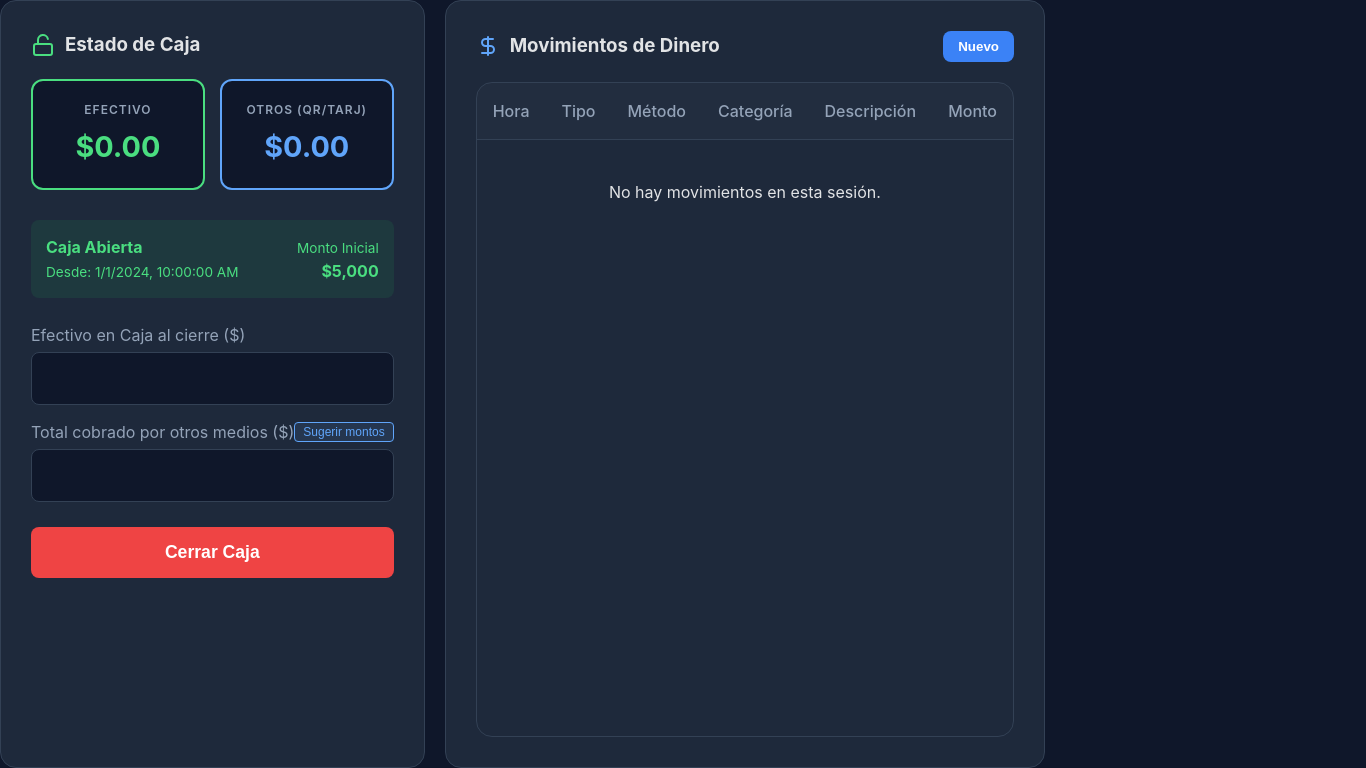
Scenario: Caja – caja abierta (session provided) › fills suggested amounts when "Sugerir montos" is clicked
This screenshot has width=1366, height=768.
Click the button "Sugerir montos" at (344, 432), box [294,422,394,442]
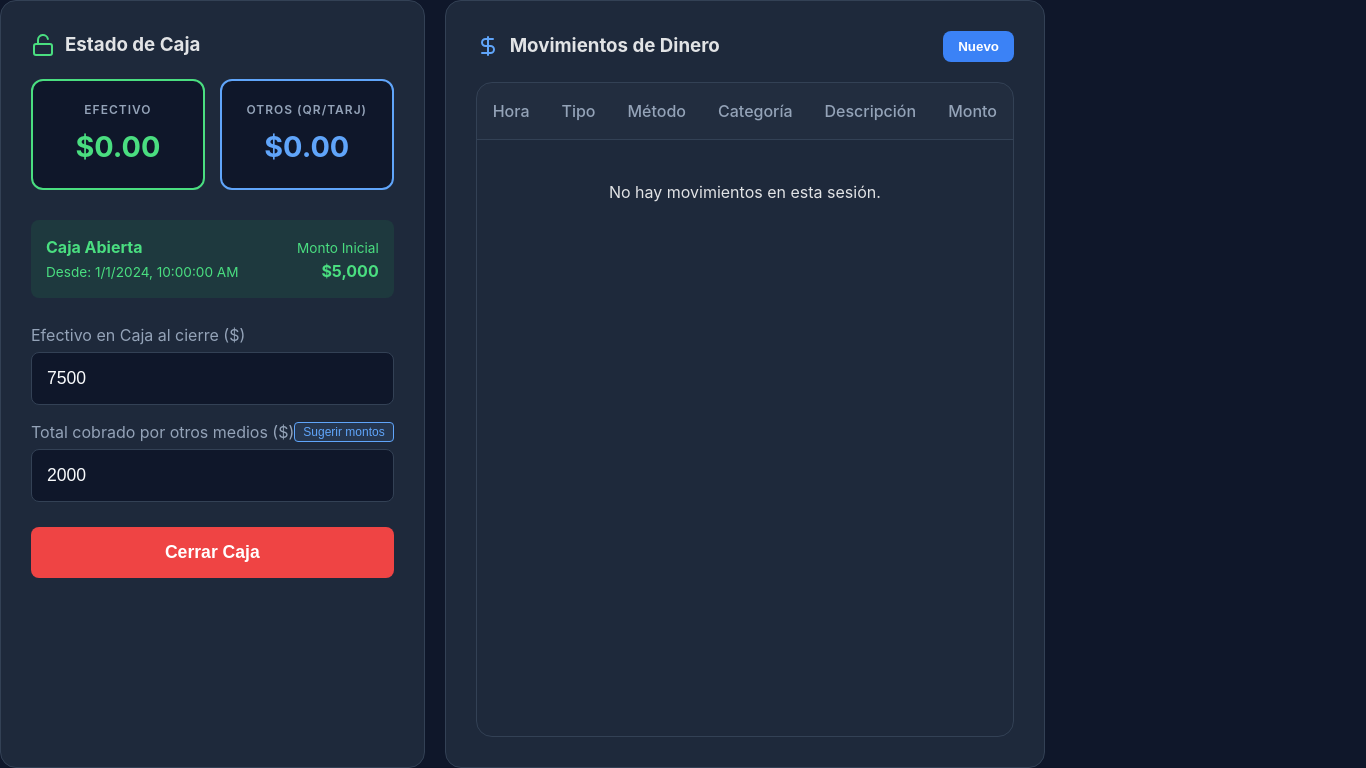
Expected: the number field below "Efectivo en Caja al cierre ($)" holds "7500", [31,352,394,405]
Expected: the number field below "Total cobrado por otros medios ($)" holds "2000", [31,449,394,502]
